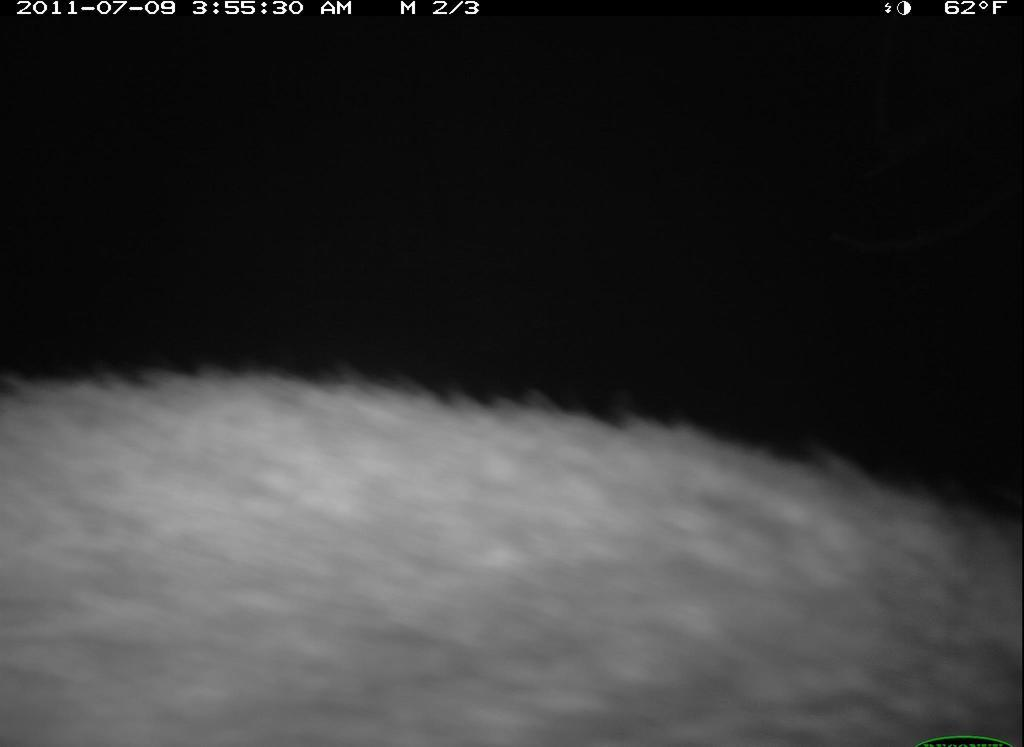raccoon: (4, 340, 1023, 747)
